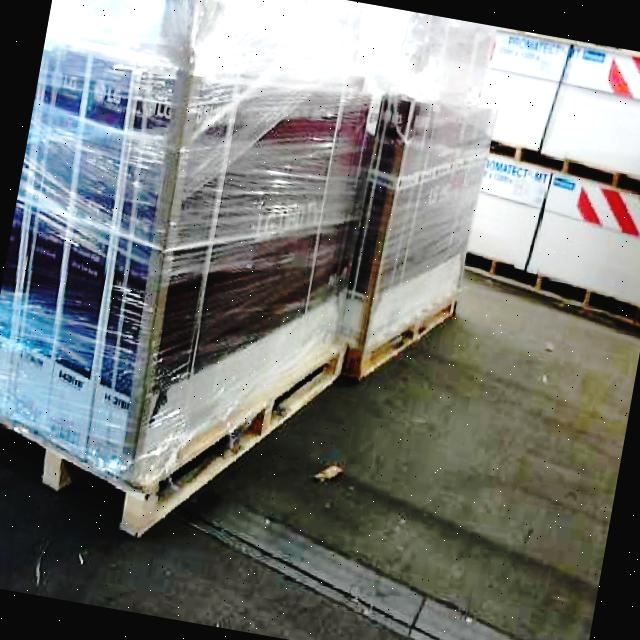ground: (0, 183, 640, 640)
pallet: (12, 0, 640, 333), (0, 280, 351, 568), (327, 82, 497, 397), (457, 135, 640, 331), (457, 249, 640, 331), (484, 136, 640, 195)
